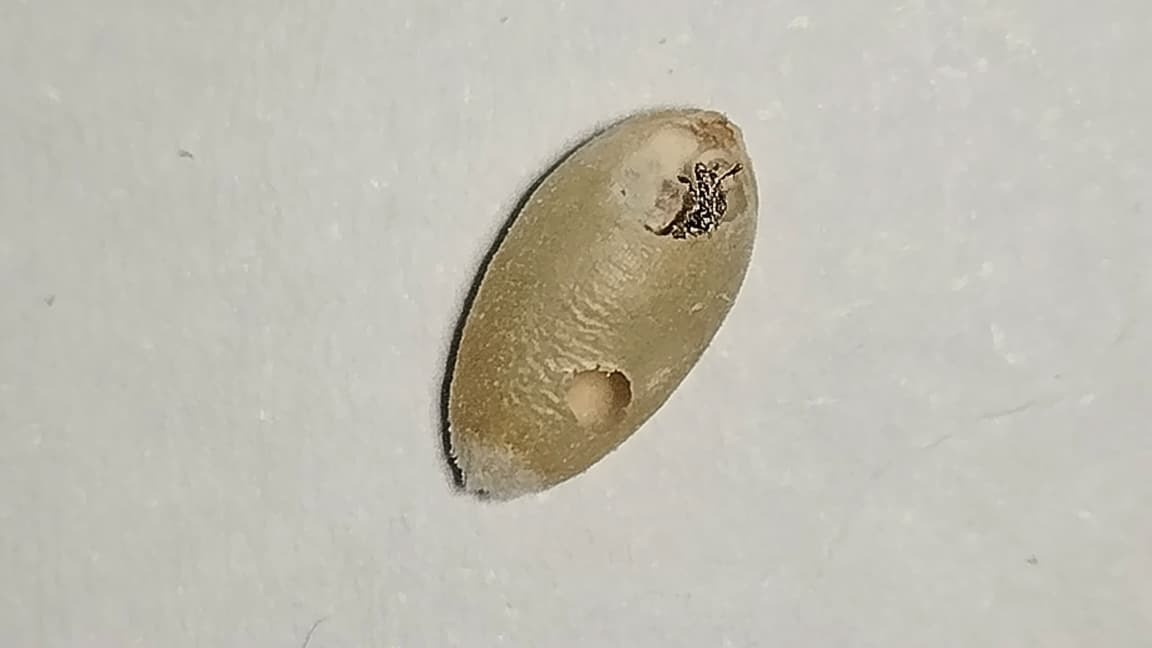damage: (441, 106, 758, 498)
insectdamage: (609, 113, 754, 241), (515, 363, 668, 464)
